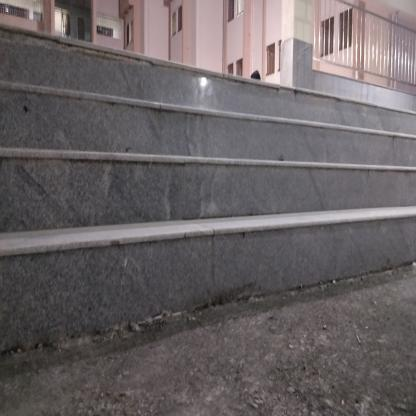stairs: (8, 102, 406, 279)
